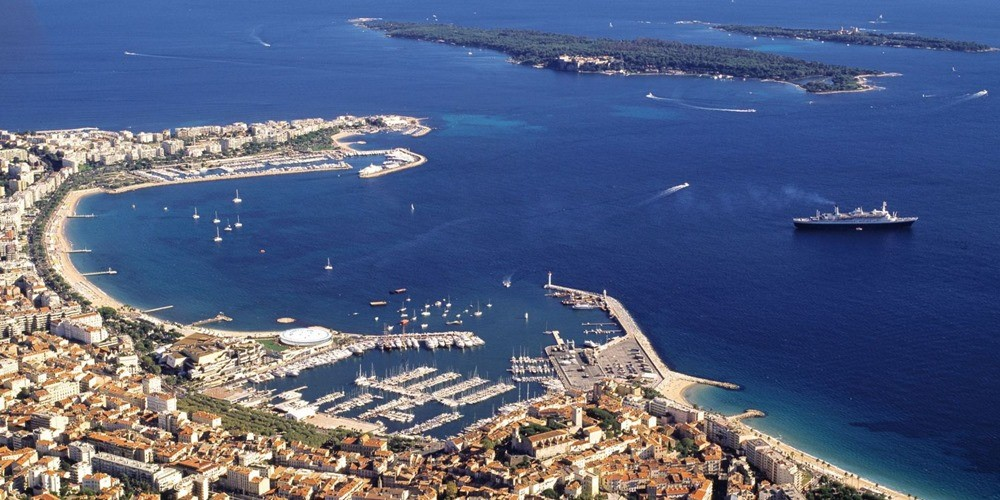ship: (790, 202, 928, 250)
